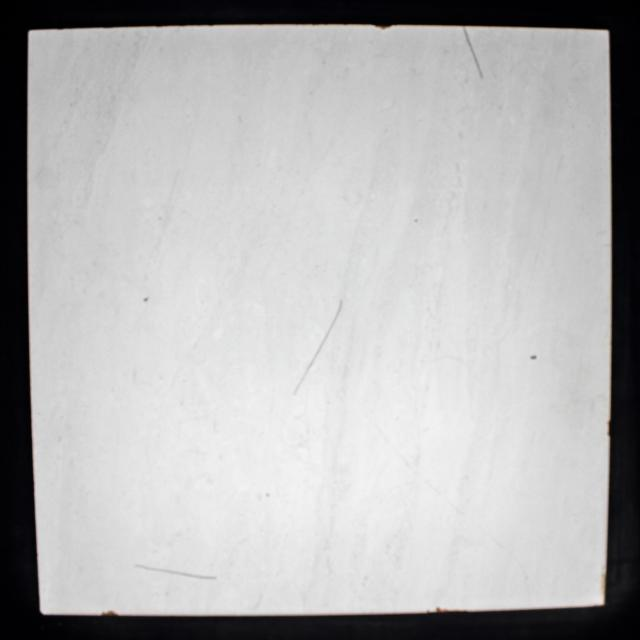edge-chipping: (100, 608, 120, 617), (372, 24, 395, 31), (434, 605, 442, 613)
hole: (529, 354, 538, 362), (142, 296, 150, 304)
line: (289, 296, 349, 401), (131, 562, 219, 582), (460, 26, 487, 83)
